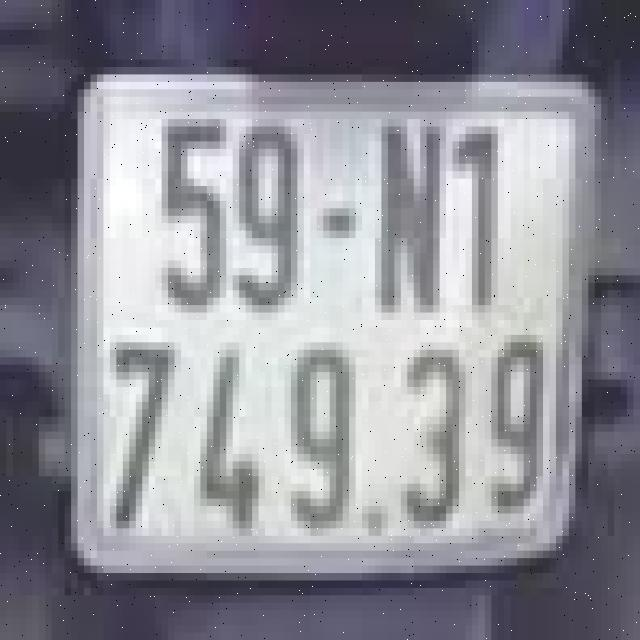1: (453, 119, 504, 320)
3: (388, 338, 472, 540)
4: (197, 346, 268, 532)
5: (148, 111, 232, 312)
7: (103, 323, 181, 524)
9: (230, 112, 307, 305), (287, 339, 358, 532), (488, 331, 553, 510)
N: (375, 112, 452, 320)
